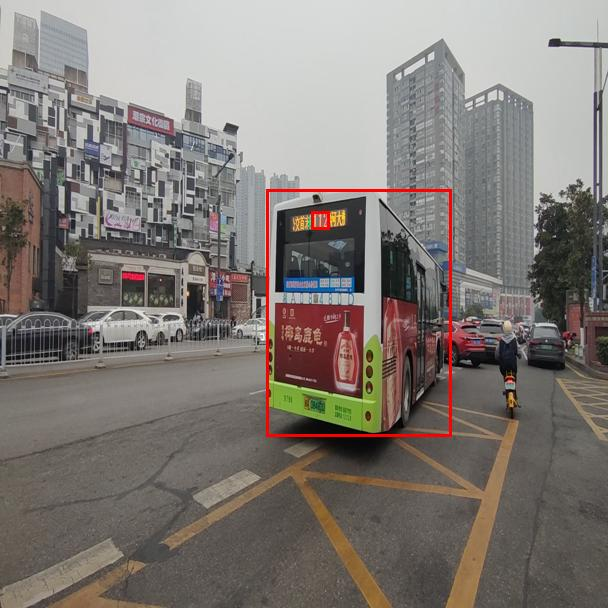bus: (266, 189, 451, 436)
screen: (311, 211, 329, 229)
